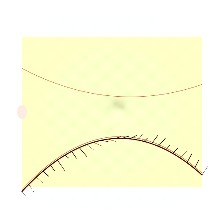hemorrhage_spot: (116, 91, 176, 138)
